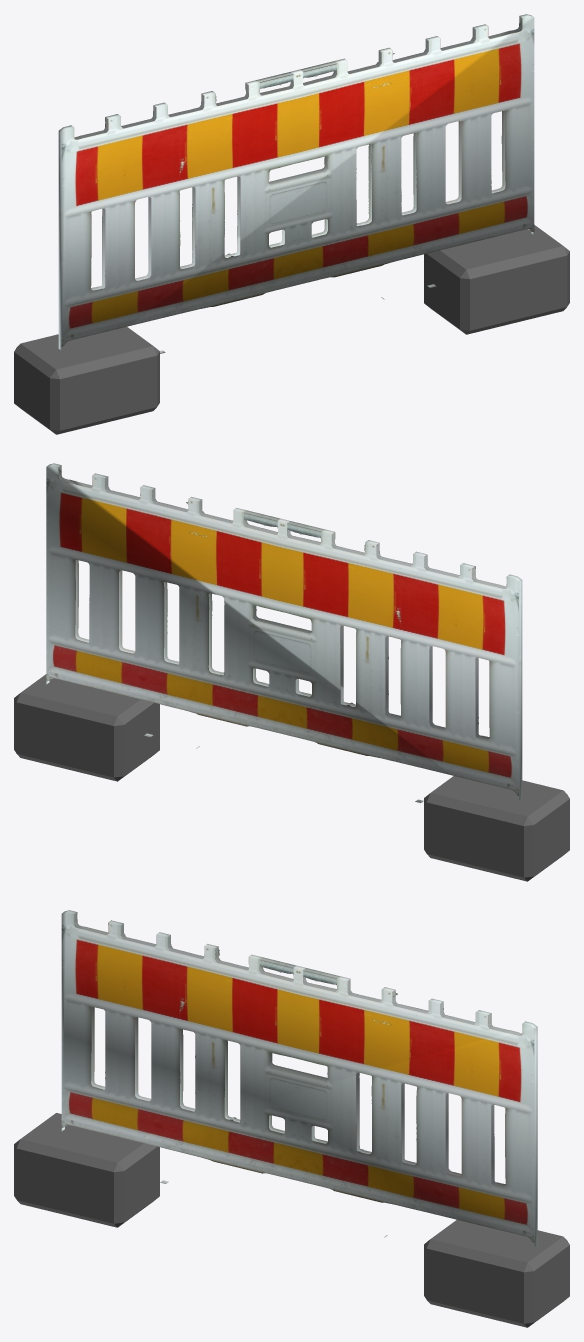
Rendered from yk_tie-esto-barrier.fbx.
The picture shows the model from 3 angles, top to bottom: view 1: azimuth 30°, elevation 25°; view 2: azimuth 150°, elevation 25°; view 3: azimuth 330°, elevation 25°; orthographic projection.
Parts seen in each view (by area): view 1: Cube.001; view 2: Cube.001; view 3: Cube.001.
Boxes of the visible parts, x1,y1,x2,y2 form: Cube.001: [14, 14, 569, 434]; Cube.001: [14, 463, 569, 881]; Cube.001: [14, 910, 569, 1327].
Bounding box in the file's own units: 440 × 231 × 63.54.
